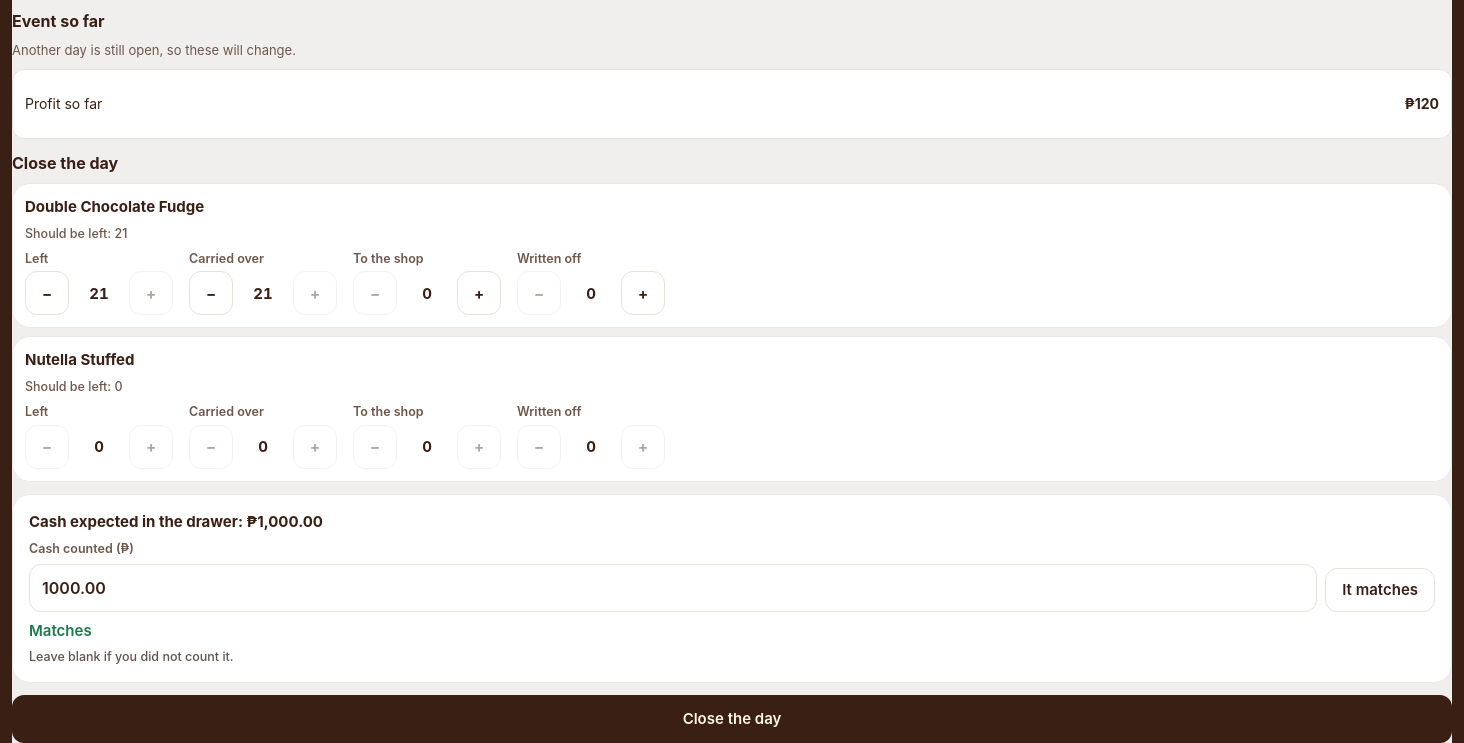
it: the day review › the drawer › count again moves her back to the field, and a different amount asks again
(page scrolled)
Replace the text in the field labelled "Cash counted (₱)" with "2000" at (673,588), box [29,564,1317,612]
(page scrolled)
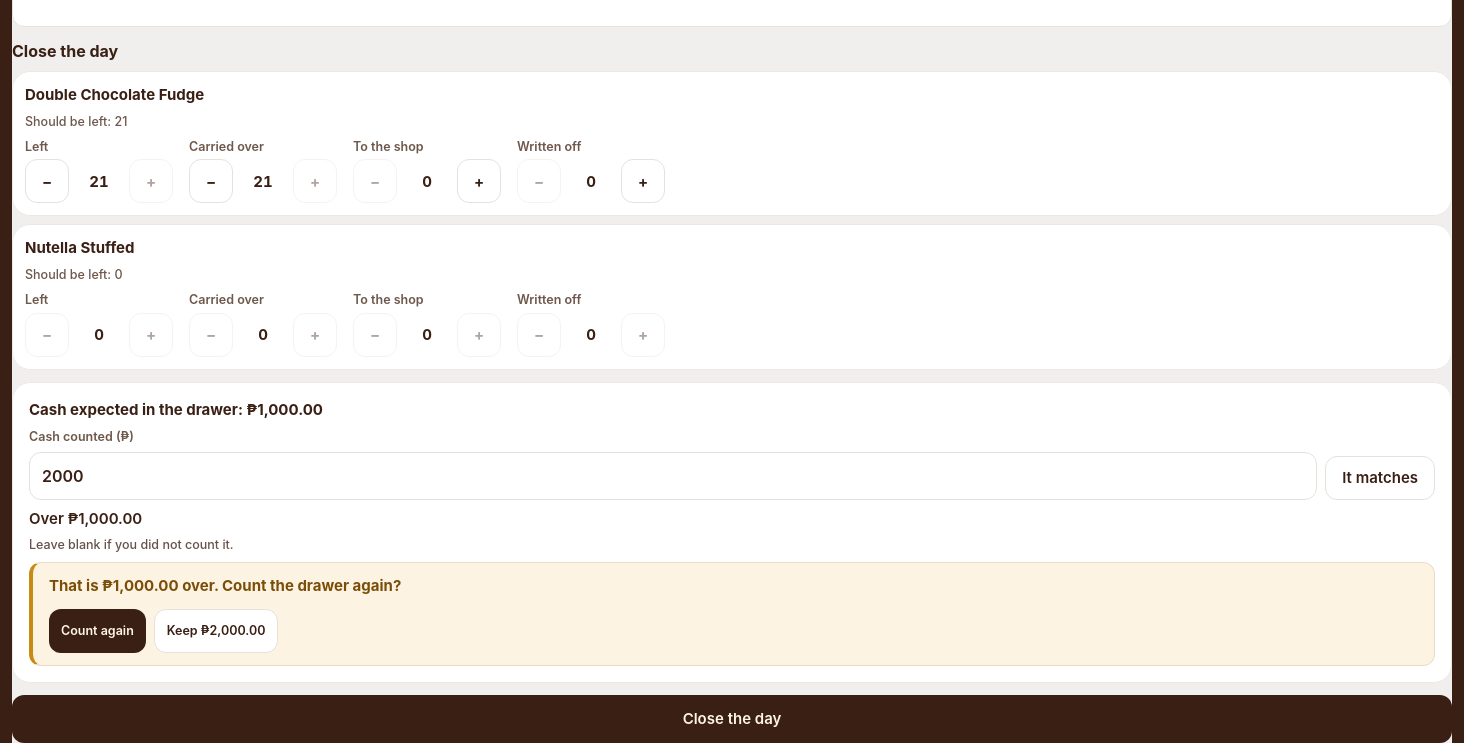
Click the button "Count again" at (97,631), box [49,609,146,653]
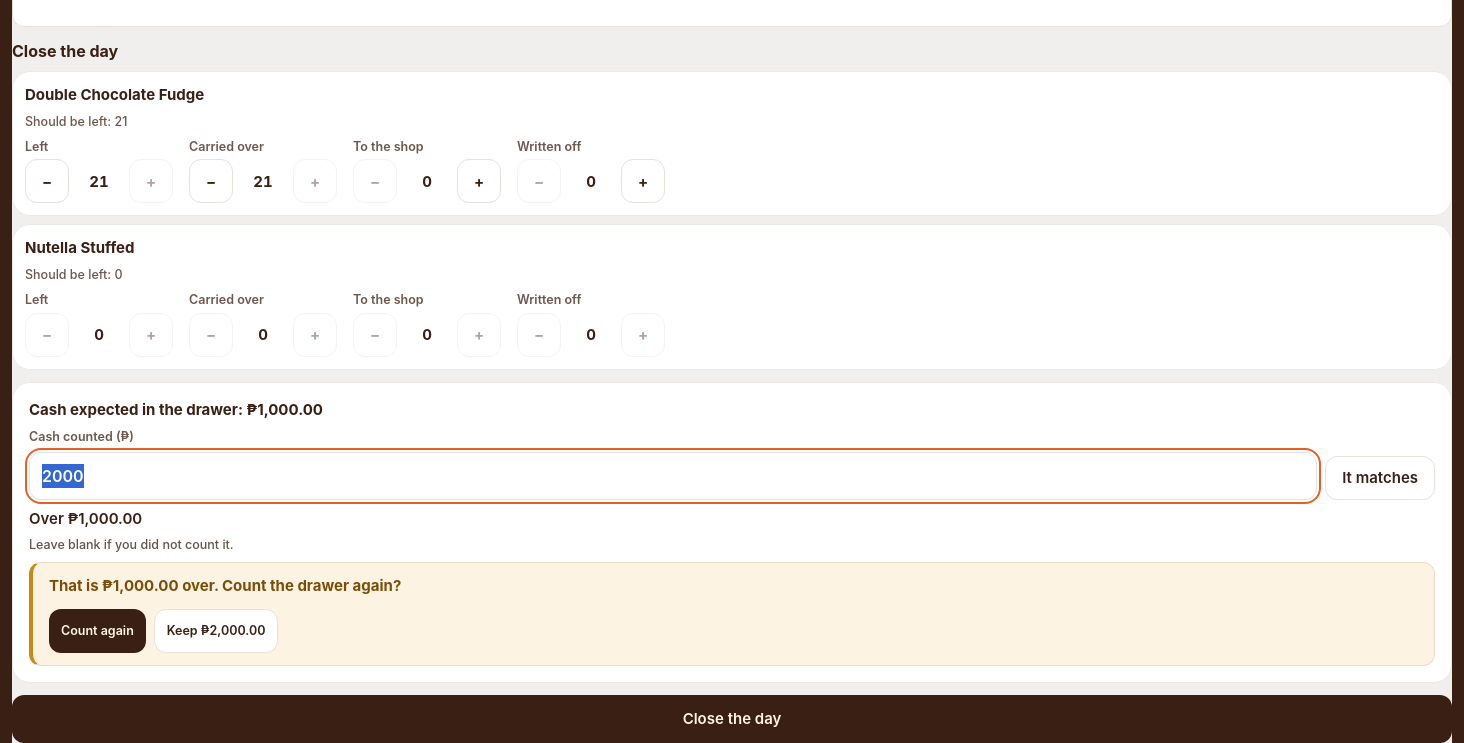
Click the button "Keep ₱2,000.00" at (216,631), box [154,609,278,653]
(page scrolled)
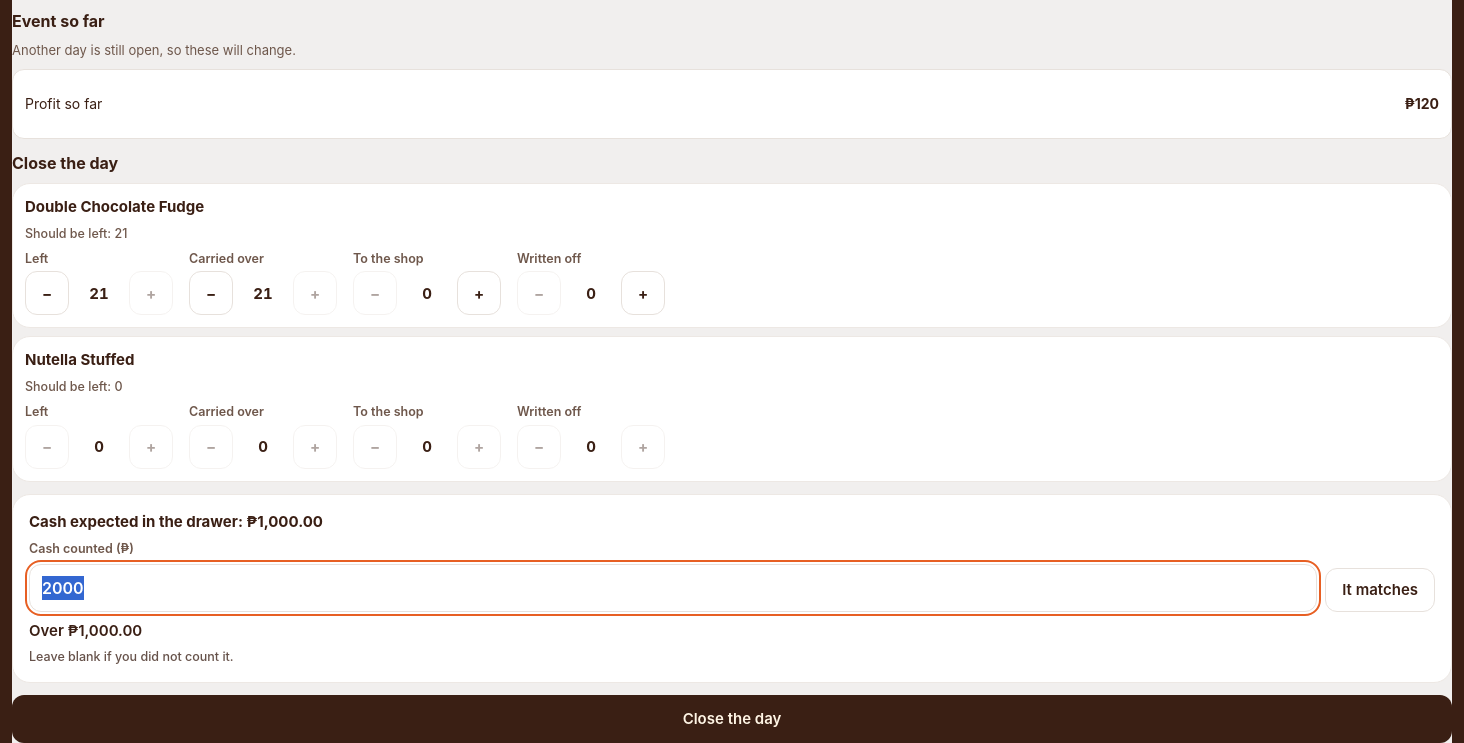
Now the message "That is ₱1,000.00 over. Count the drawer again? Count again Keep ₱2,000.00" is gone
Replace the text in the field labelled "Cash counted (₱)" with "3000" at (673,588), box [29,564,1317,612]
(page scrolled)
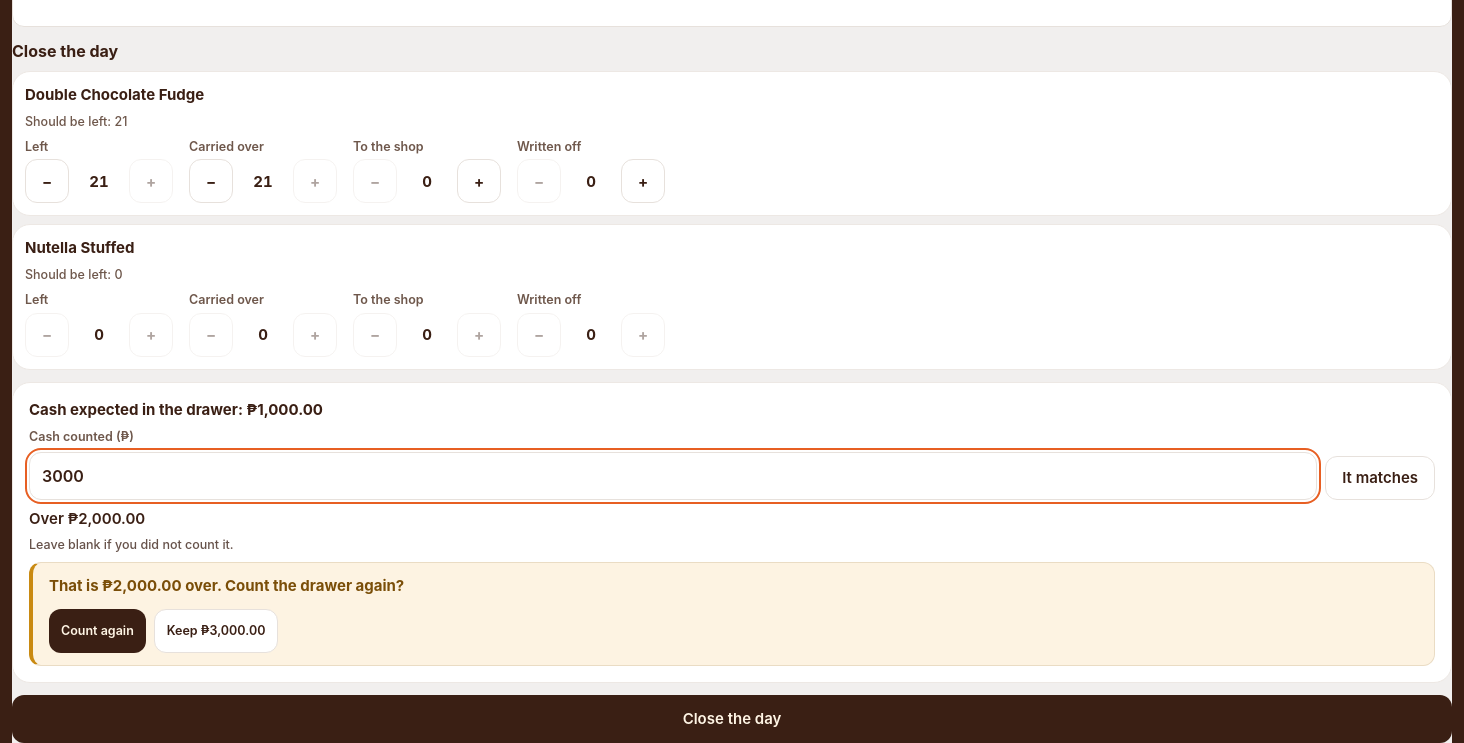
Now the message shows "That is ₱2,000.00 over", box [49,576,404,595]
